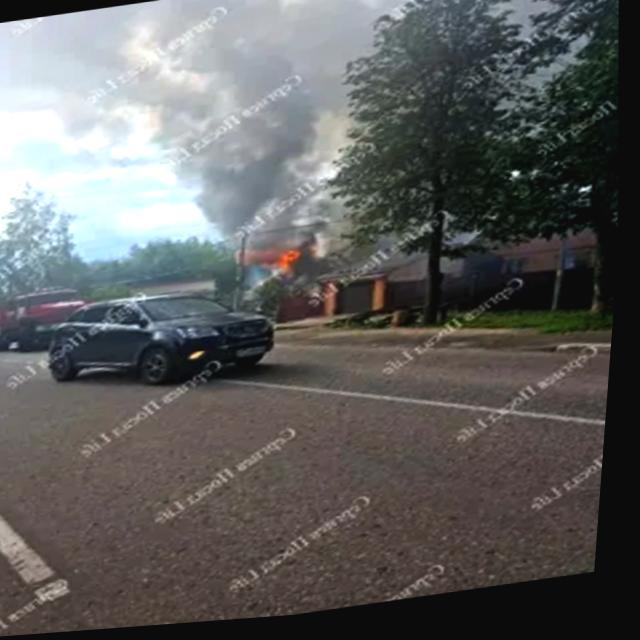no_helmet: (144, 0, 357, 279)
